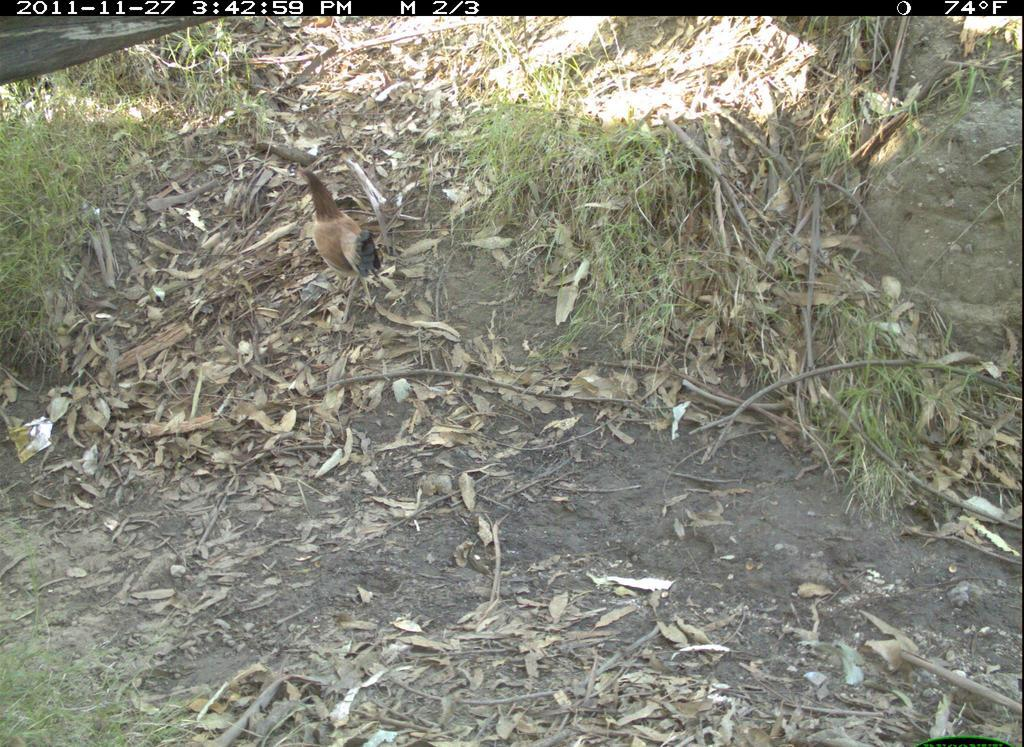bird: (290, 148, 399, 312)
